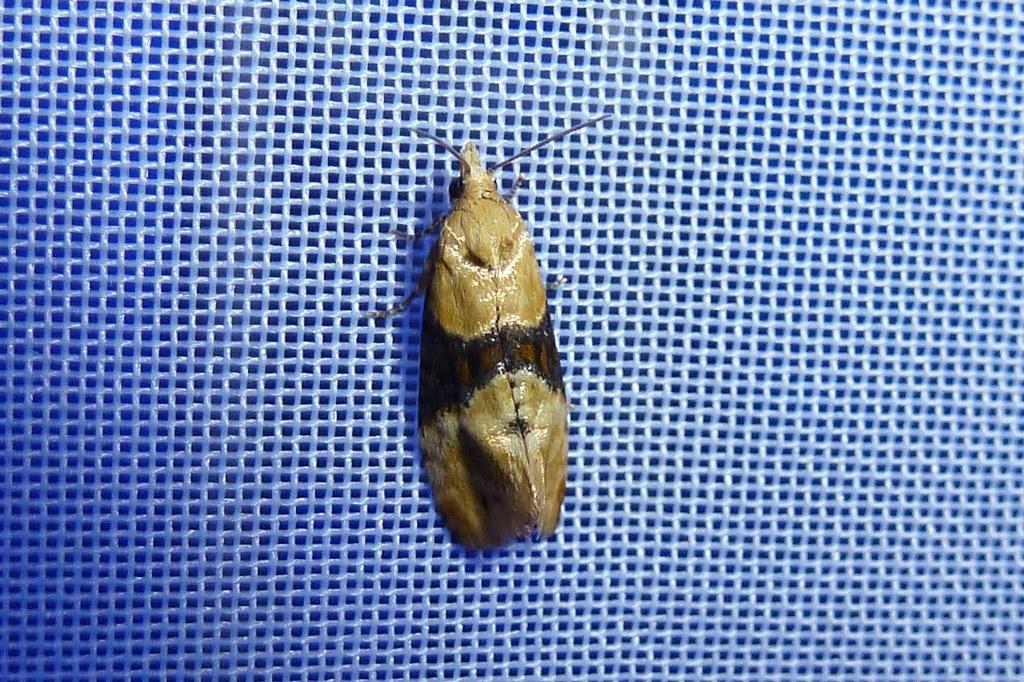Eupoecilia Ambiguella: (364, 109, 616, 552)
